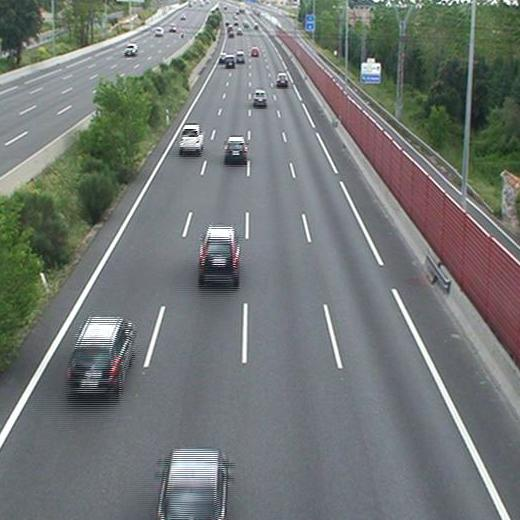car: (157, 450, 228, 520), (69, 318, 133, 390), (199, 227, 240, 281), (180, 124, 203, 150), (224, 137, 247, 159), (252, 90, 268, 105), (276, 73, 287, 86), (225, 55, 235, 66), (235, 51, 245, 61), (250, 47, 259, 56)
